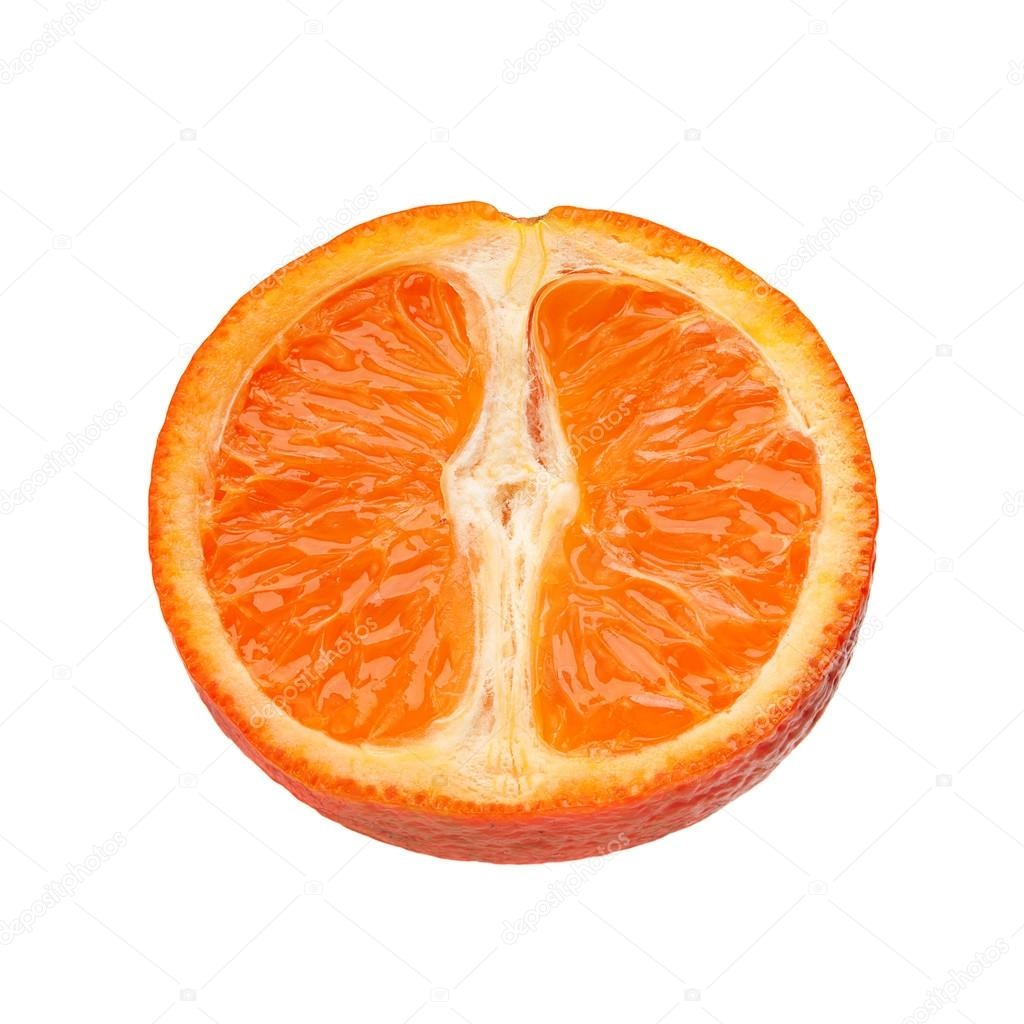mandarin: (148, 203, 881, 858)
